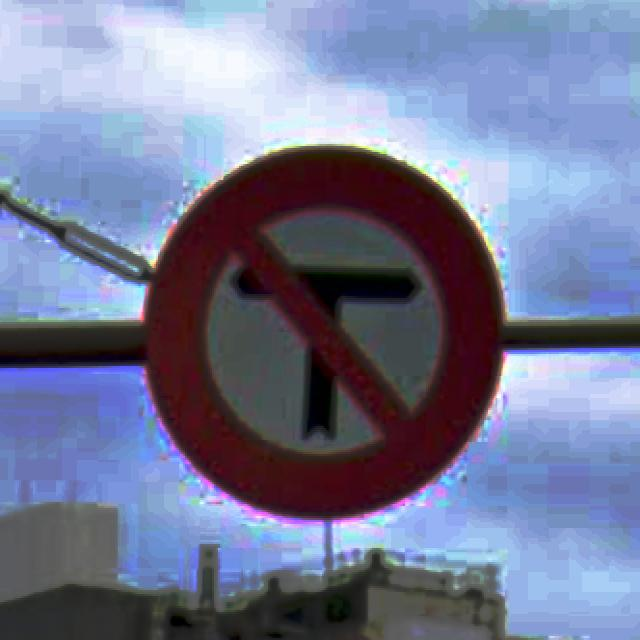noturnleftright: (139, 142, 505, 520)
